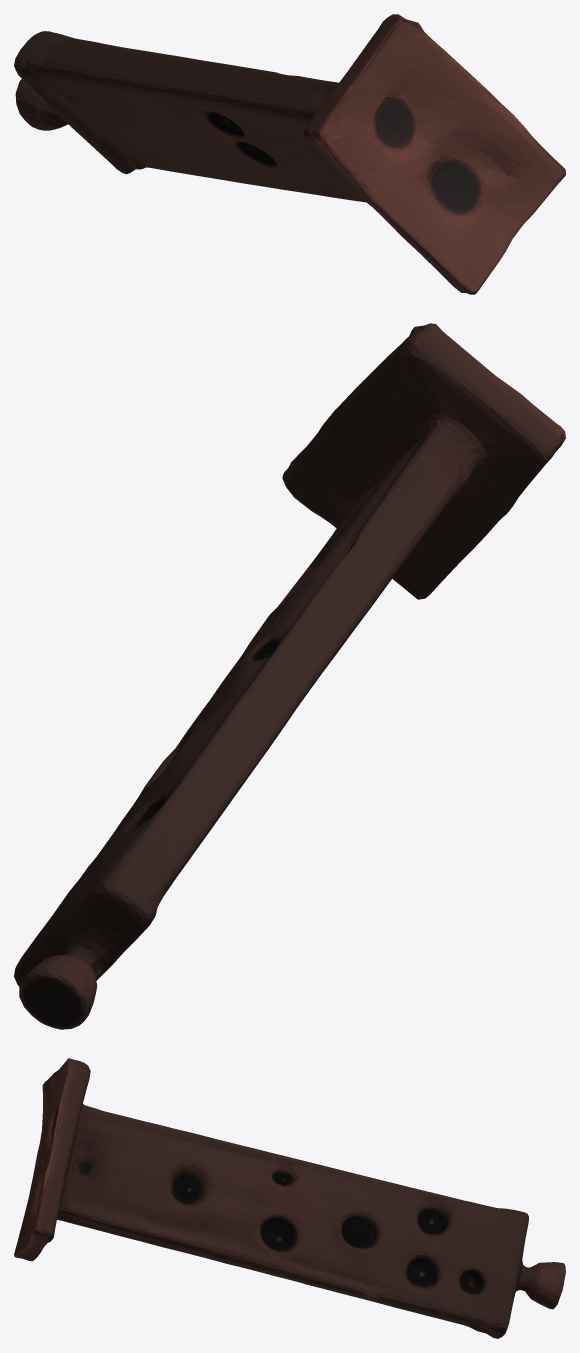
File: trellis_recon.glb
The picture shows the model from 3 angles, top to bottom: view 1: azimuth 30°, elevation 25°; view 2: azimuth 150°, elevation 25°; view 3: azimuth 270°, elevation 25°; orthographic projection. The views are drawn at different scales.
Parts seen in each view (by area): view 1: world; view 2: world; view 3: world.
Part boxes in pixels (<box>): world: <box>14,14,565,294</box>; world: <box>14,323,565,1029</box>; world: <box>14,1058,565,1338</box>.
Size of the model in its own units: 0.0365 by 0.0546 by 0.1004.
Materials: 1 (1 with a texture image).
